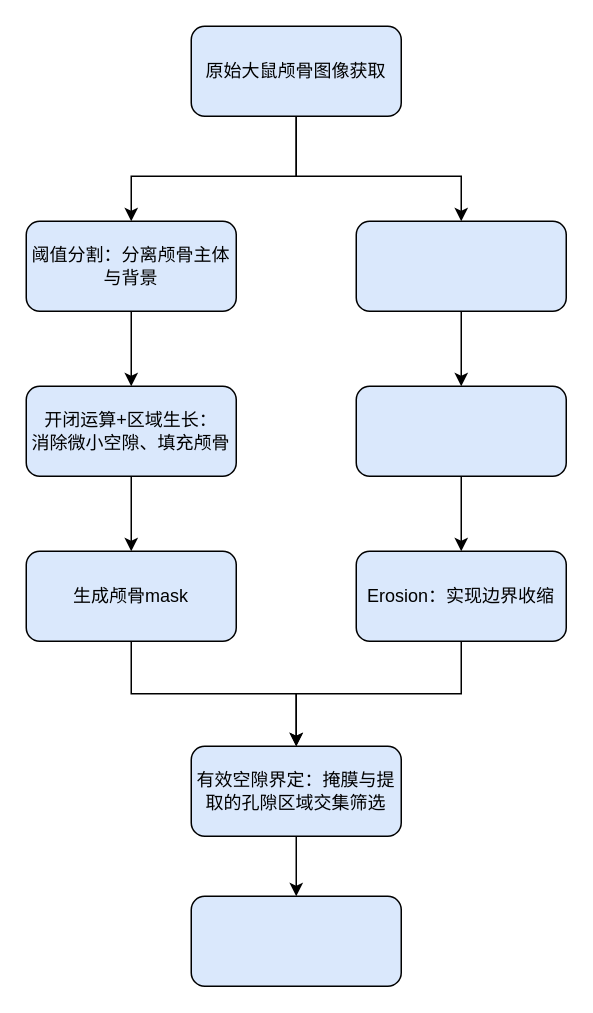
This 593x1013 diagram has some shape labels left out. The shapes that lost their labels are listed below. From the top down, each one's box as (x1, y1, x2, y2) in pixels, then its label:
(355, 220, 566, 311): 阈值分割：突出颅骨内空隙与背景
(355, 385, 566, 476): 黑白帽算法： 分离并筛选潜在孔隙区域
(190, 895, 401, 986): 孔隙率计算：统计有效孔隙体积/面积
